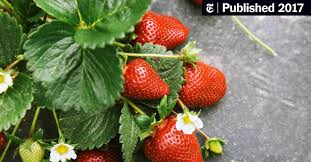ripe: (137, 110, 206, 160), (172, 56, 228, 111), (117, 57, 175, 108), (134, 10, 197, 52)
